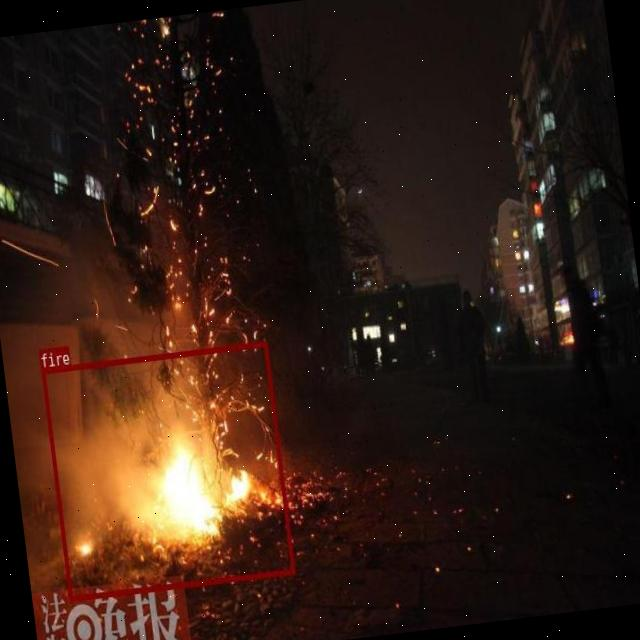fire: (39, 340, 294, 600)
